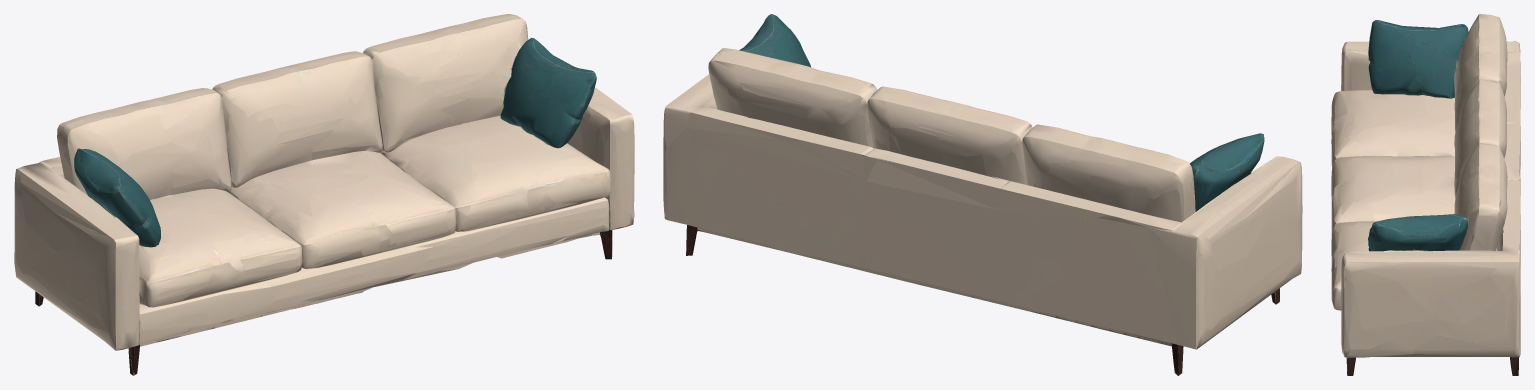
The model's file is sofa-v1.glb.
3 renders of one model, left to right at view 1: azimuth 30°, elevation 25°; view 2: azimuth 150°, elevation 25°; view 3: azimuth 270°, elevation 25°, orthographic. The views are drawn at different scales.
Bounding box in the file's own units: 2.2 × 0.7641 × 0.7875.
Materials: 1 (1 with a texture image).
